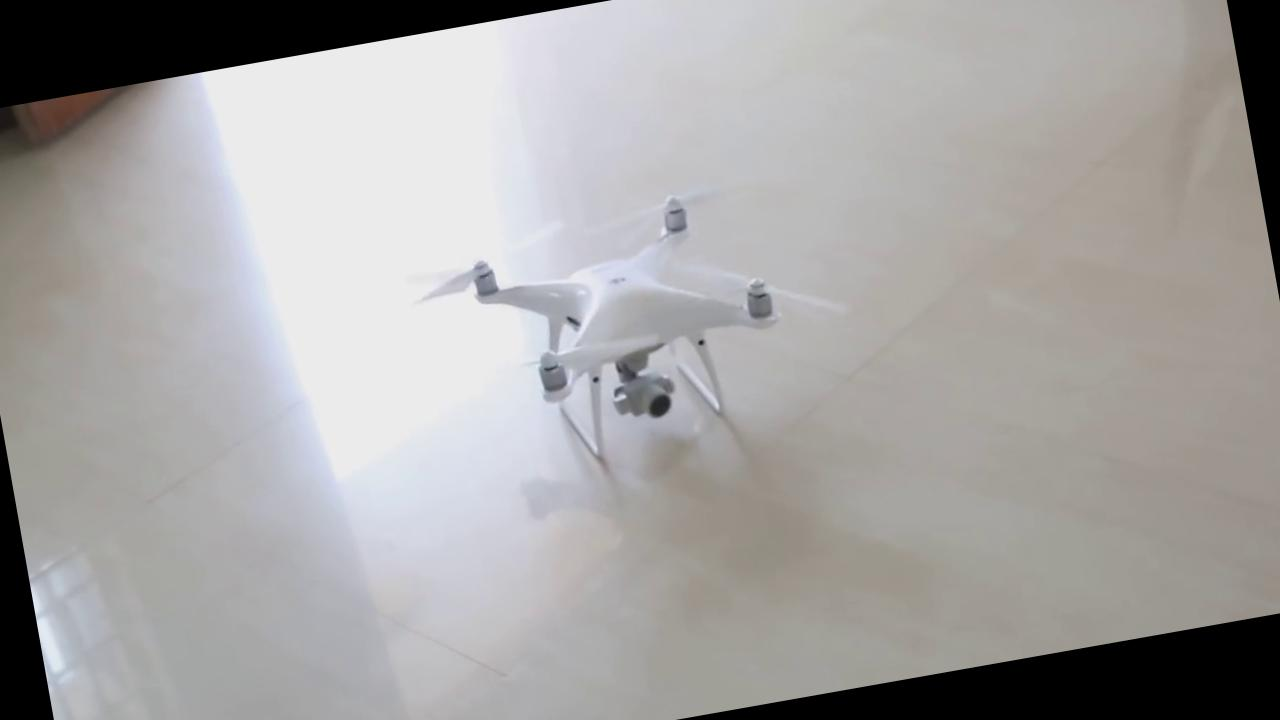drone: (413, 150, 814, 466)
